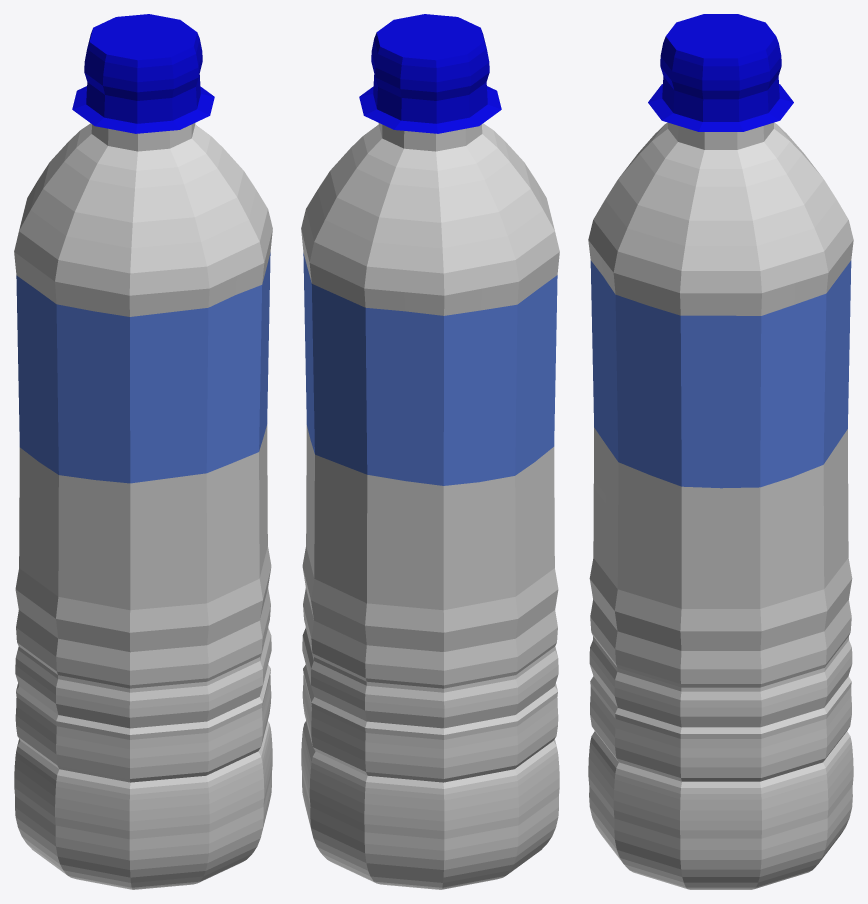
File: GamesE_E03_Botella.fbx
3 views of the same model, side by side, from view 1: azimuth 30°, elevation 25°; view 2: azimuth 150°, elevation 25°; view 3: azimuth 270°, elevation 25° (orthographic).
Parts seen in each view (by area): view 1: Sphere; view 2: Sphere; view 3: Sphere.
Part boxes in pixels (x1=…): Sphere: x1=14, y1=14, x2=272, y2=889; Sphere: x1=301, y1=14, x2=559, y2=889; Sphere: x1=588, y1=14, x2=853, y2=889.
Size of the model in its own units: 125 by 445 by 131.
